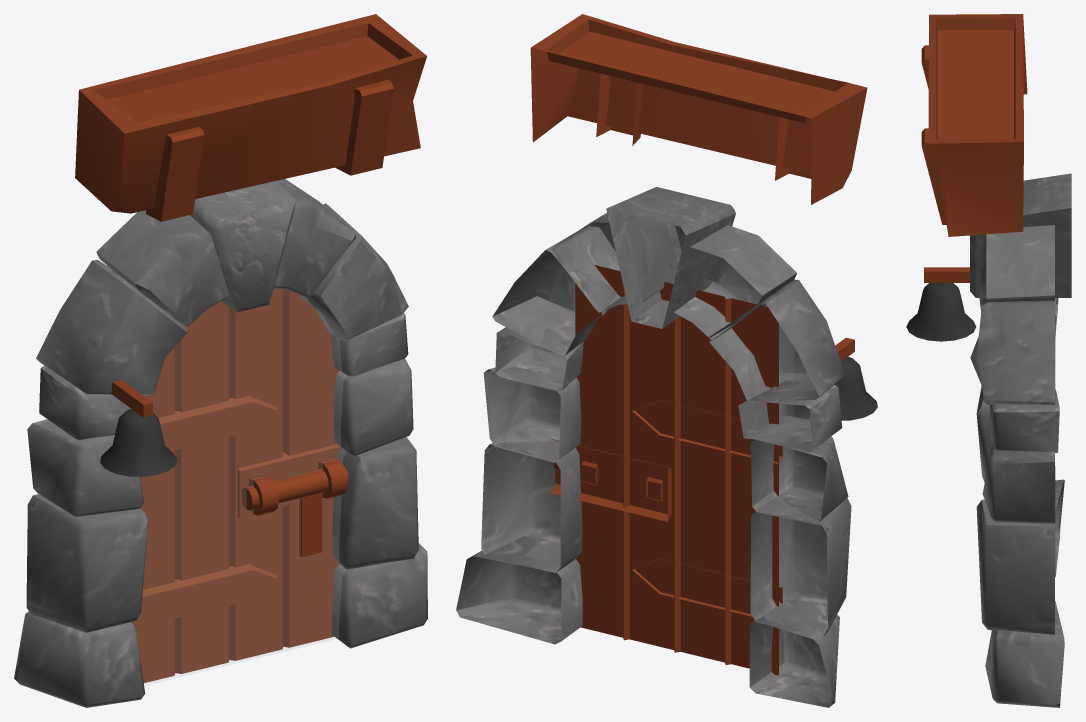
File: Counter_Exit.fbx
3 renders of one model, left to right at view 1: azimuth 30°, elevation 25°; view 2: azimuth 150°, elevation 25°; view 3: azimuth 270°, elevation 25°, orthographic. The views are drawn at different scales.
Parts seen in each view (by area): view 1: Counter_Exit, Counter_Exit_Decale; view 2: Counter_Exit, Counter_Exit_Decale; view 3: Counter_Exit.
Part boxes in pixels (<box>): Counter_Exit: <box>14,14,427,707</box>; Counter_Exit_Decale: <box>131,289,346,685</box>; Counter_Exit: <box>456,14,877,707</box>; Counter_Exit_Decale: <box>573,252,793,668</box>; Counter_Exit: <box>906,14,1071,707</box>.
Size of the model in its own units: 351 by 509 by 139.
